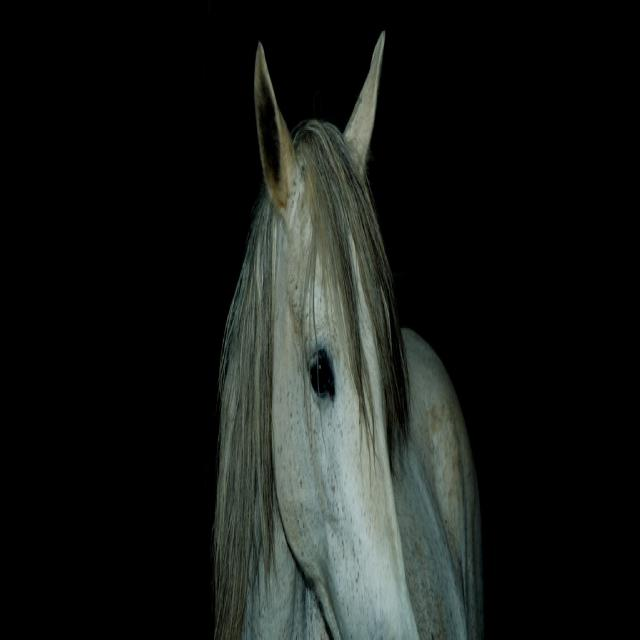Horse: (208, 21, 484, 639)
